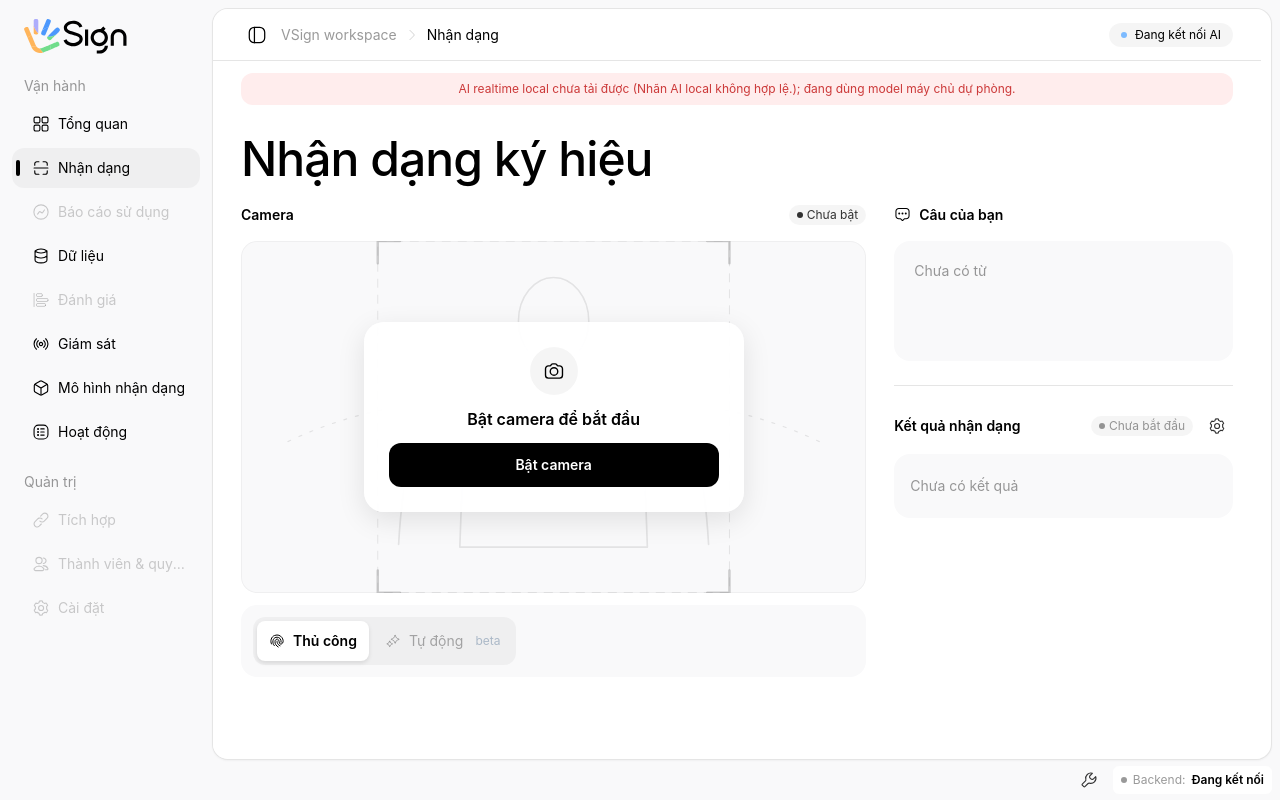
Test: App › mở chế độ thu dữ liệu khi backend cho phép
Click the heading "Công cụ" at (1089, 780), box [1073, 764, 1105, 796]
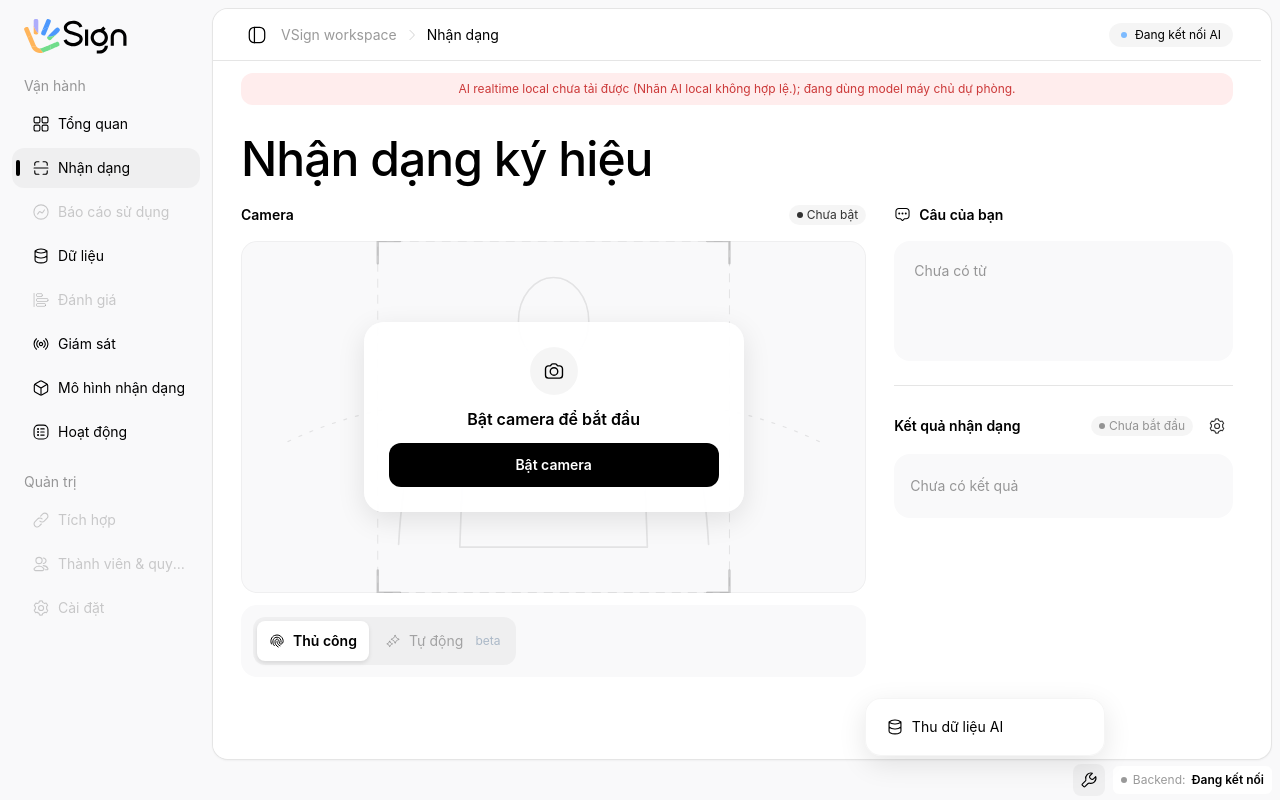
Check: the button "Thu dữ liệu AI" is enabled
Click the button "Thu dữ liệu AI" at (985, 727), box [874, 707, 1096, 747]
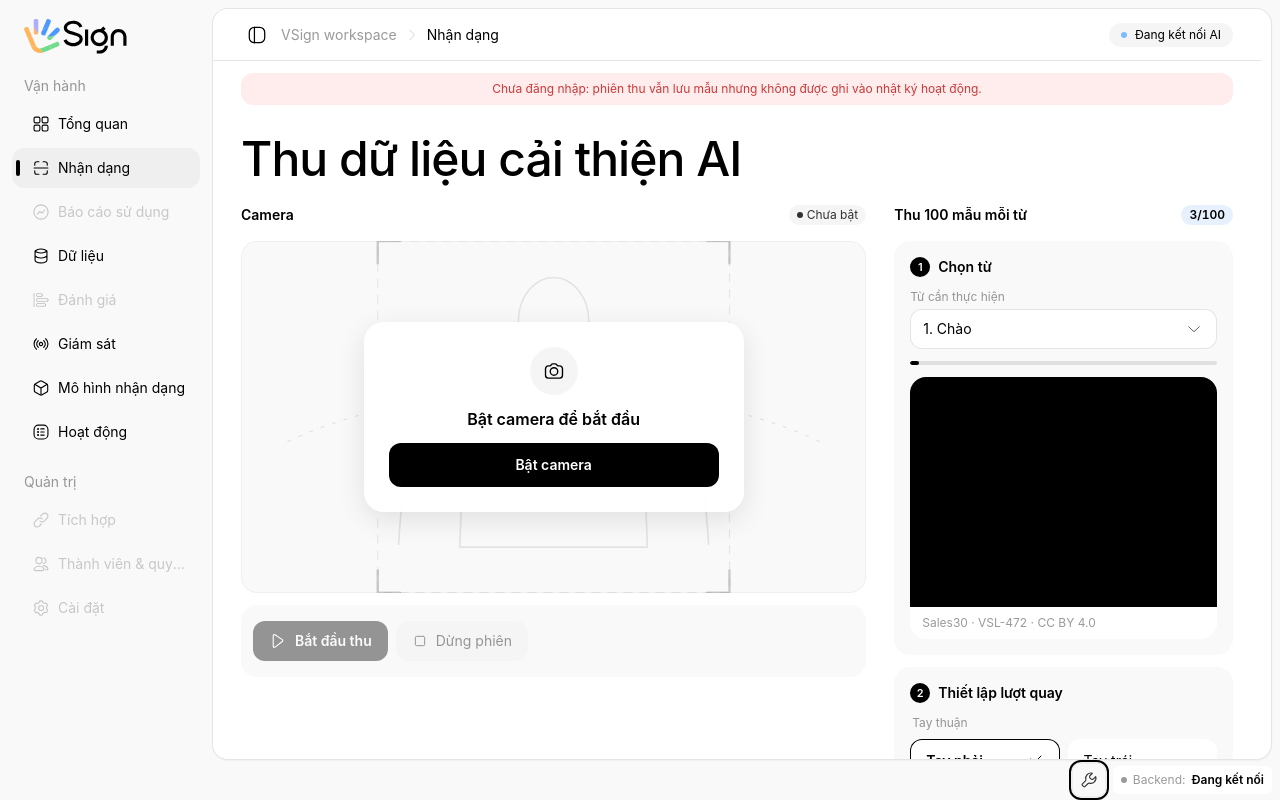
Check: the heading "Thu 100 mẫu mỗi từ" is shown, box [894, 205, 1027, 225]
Check: the dropdown labelled "Từ cần thực hiện" shows "1. Chào"
Check: the text "3/100" is shown, box [1181, 205, 1233, 225]
Select "11. Điện thoại" in the dropdown labelled "Từ cần thực hiện" at (1064, 329), box [910, 309, 1217, 349]
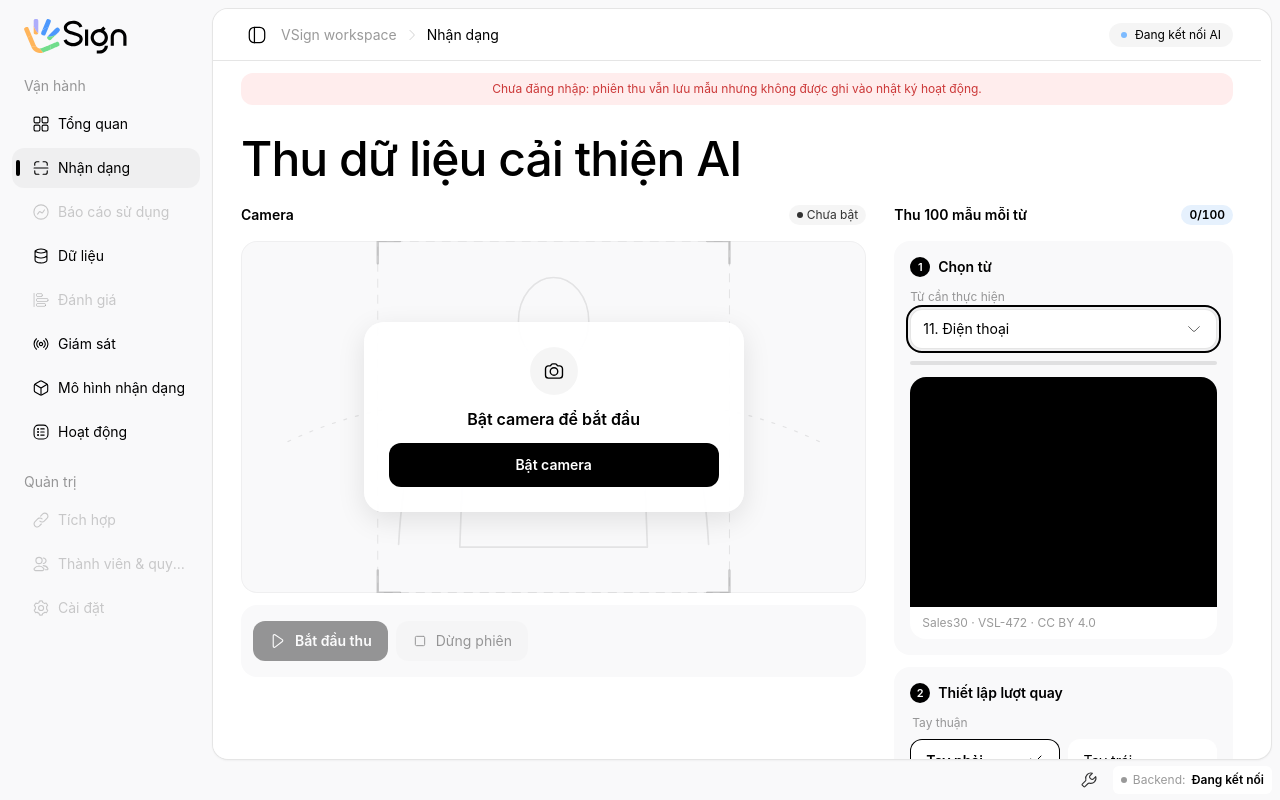
Check: the text "0/100" is shown, box [1181, 205, 1233, 225]
Select "30. Cảm ơn" in the dropdown labelled "Từ cần thực hiện" at (1064, 329), box [910, 309, 1217, 349]
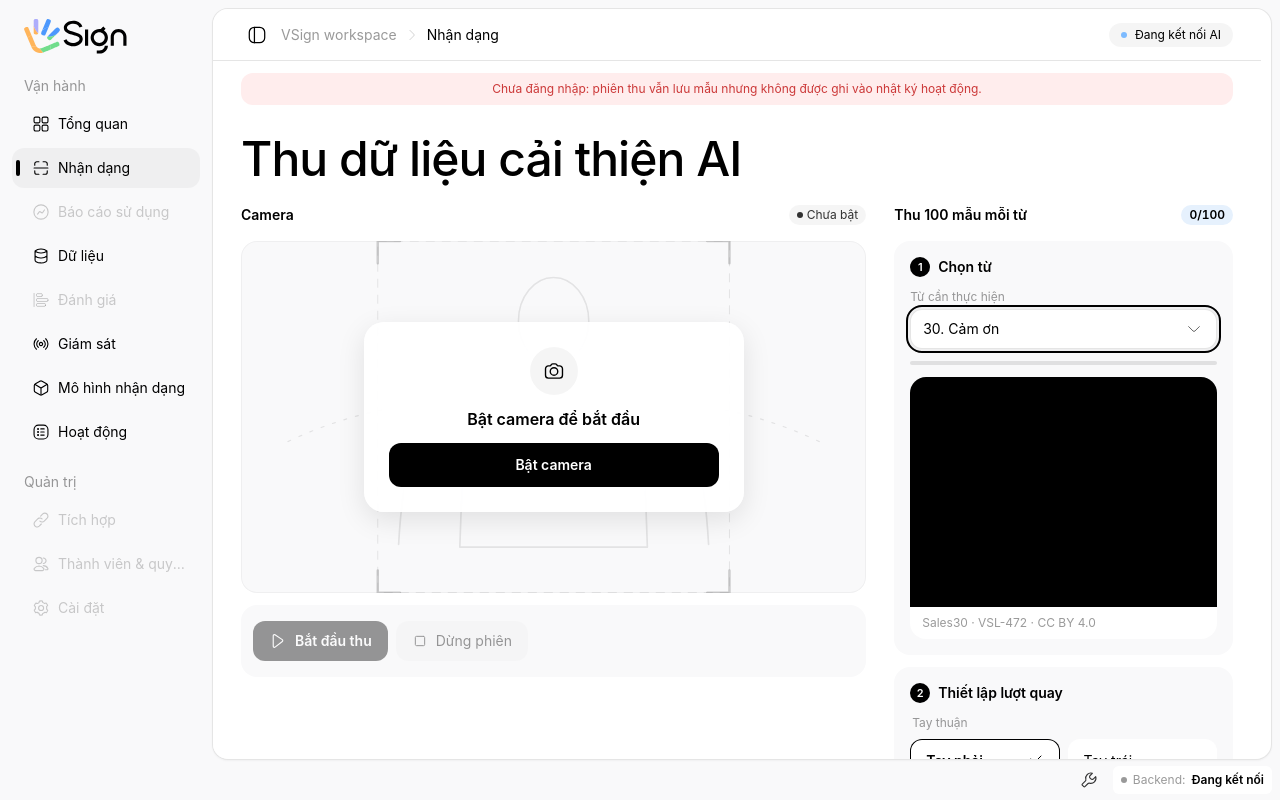
Select "31. Không ký hiệu" in the dropdown labelled "Từ cần thực hiện" at (1064, 329), box [910, 309, 1217, 349]
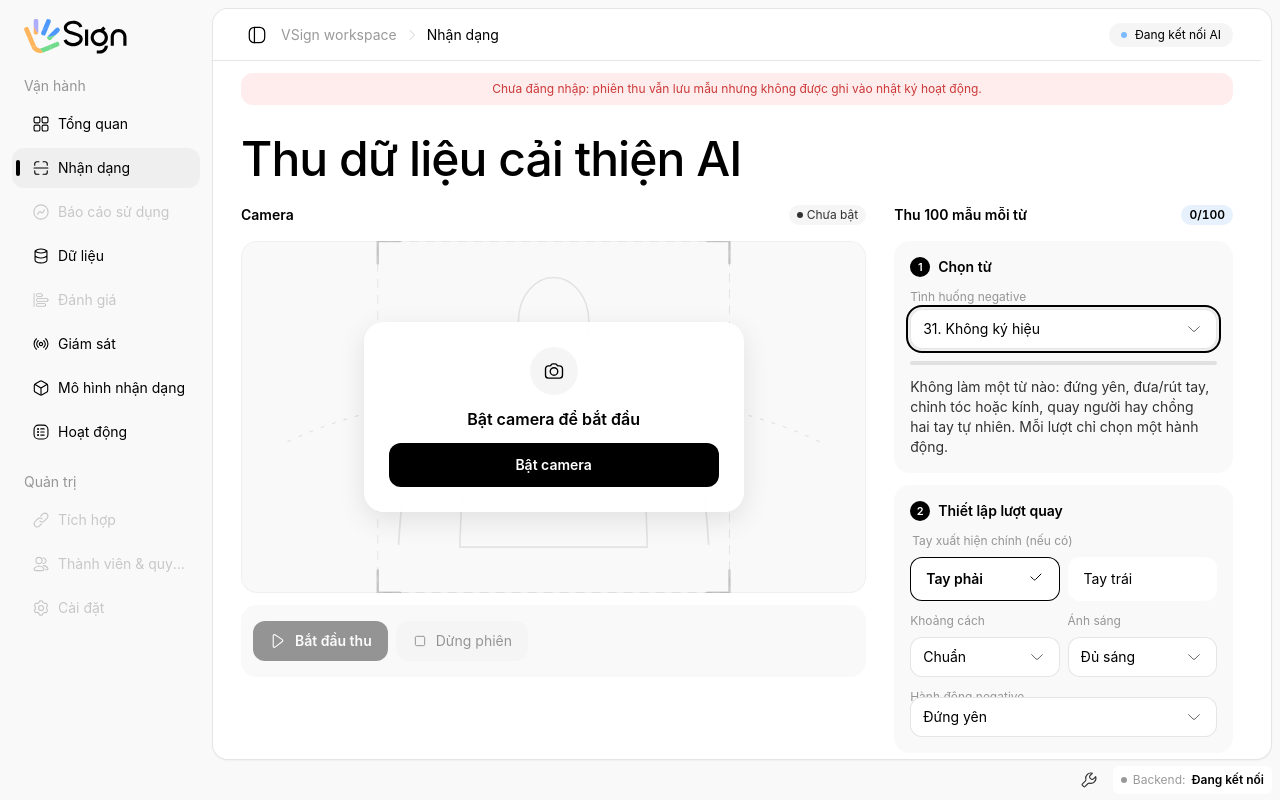
Check: the text "Không làm một từ nào: đứng yên" is shown, box [910, 378, 1209, 455]
